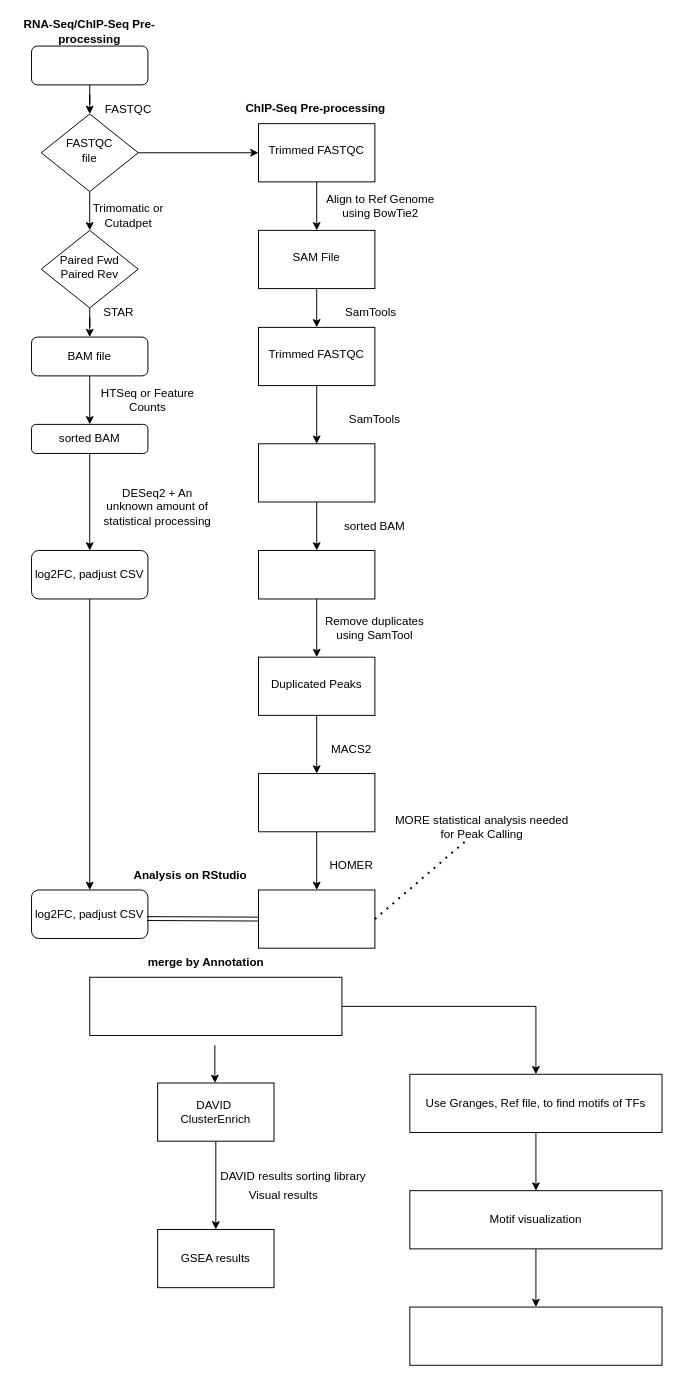
Some shapes in this 679 by 1382 pixel diagram are drawn without their labels. The shapes that lost their labels are listed below. From the top down, each one's box as (x1, y1, x2, y2) in pixels, then its label:
(31, 45, 148, 85): FASTA
(258, 443, 375, 502): BAM
(258, 550, 375, 599): sortedBAM
(258, 773, 375, 832): narrowPeak, broadPeak
(258, 889, 375, 948): Annotated Peaks CSV
(89, 976, 342, 1035): Merged CSV Content (RNA-Seq log2FC, Peak location,
(409, 1306, 662, 1365): Final Table TF: Most likely motif binding
